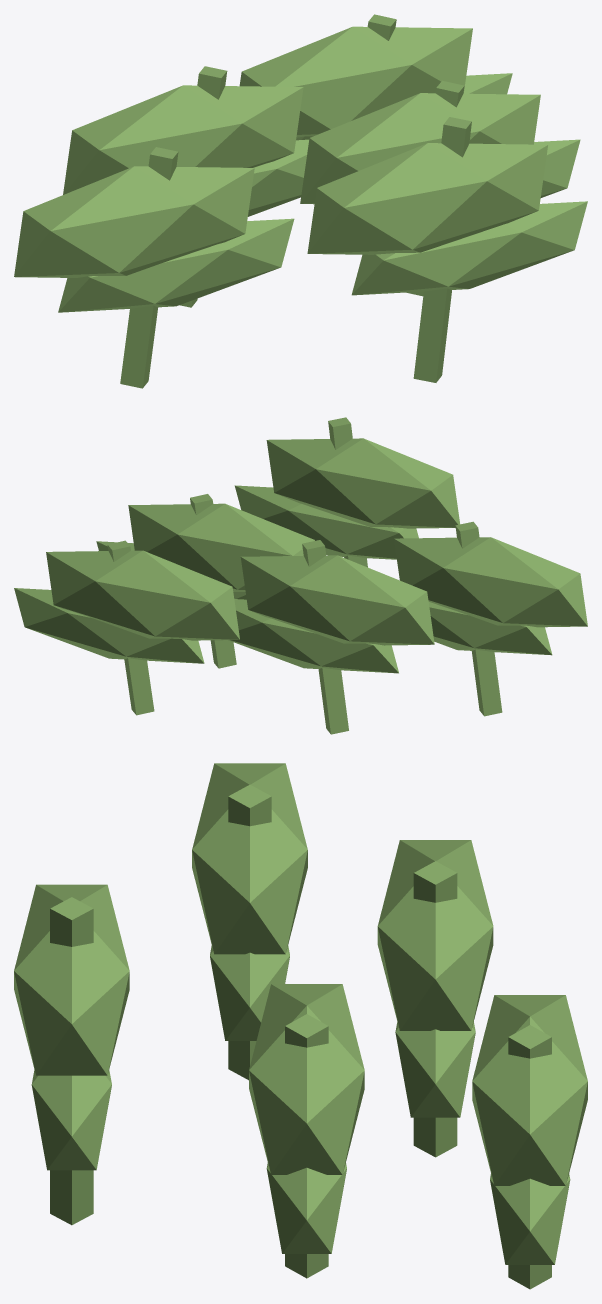
File: crop_lentil_growing.glb
3 views of the same model, one above another, from view 1: azimuth 30°, elevation 25°; view 2: azimuth 150°, elevation 25°; view 3: azimuth 270°, elevation 25° (orthographic). The views are drawn at different scales.
Visible parts, largest first — view 1: crop_lentil_growing; view 2: crop_lentil_growing; view 3: crop_lentil_growing.
Part boxes in pixels (left/top/right/bottom): crop_lentil_growing: left=14, top=14, right=587, bottom=388; crop_lentil_growing: left=14, top=417, right=587, bottom=734; crop_lentil_growing: left=14, top=763, right=587, bottom=1289.
Bounding box in the file's own units: 0.506 × 0.2006 × 0.3163.
